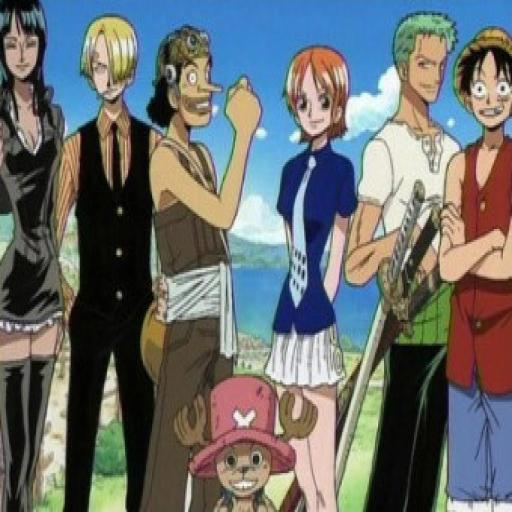Luffy: (453, 24, 512, 134)
Nami: (282, 32, 358, 150)
NicoRobin: (0, 0, 55, 93)
Usopp: (154, 22, 221, 138)
Zoro: (383, 9, 460, 106)
sanji: (78, 11, 140, 114)
